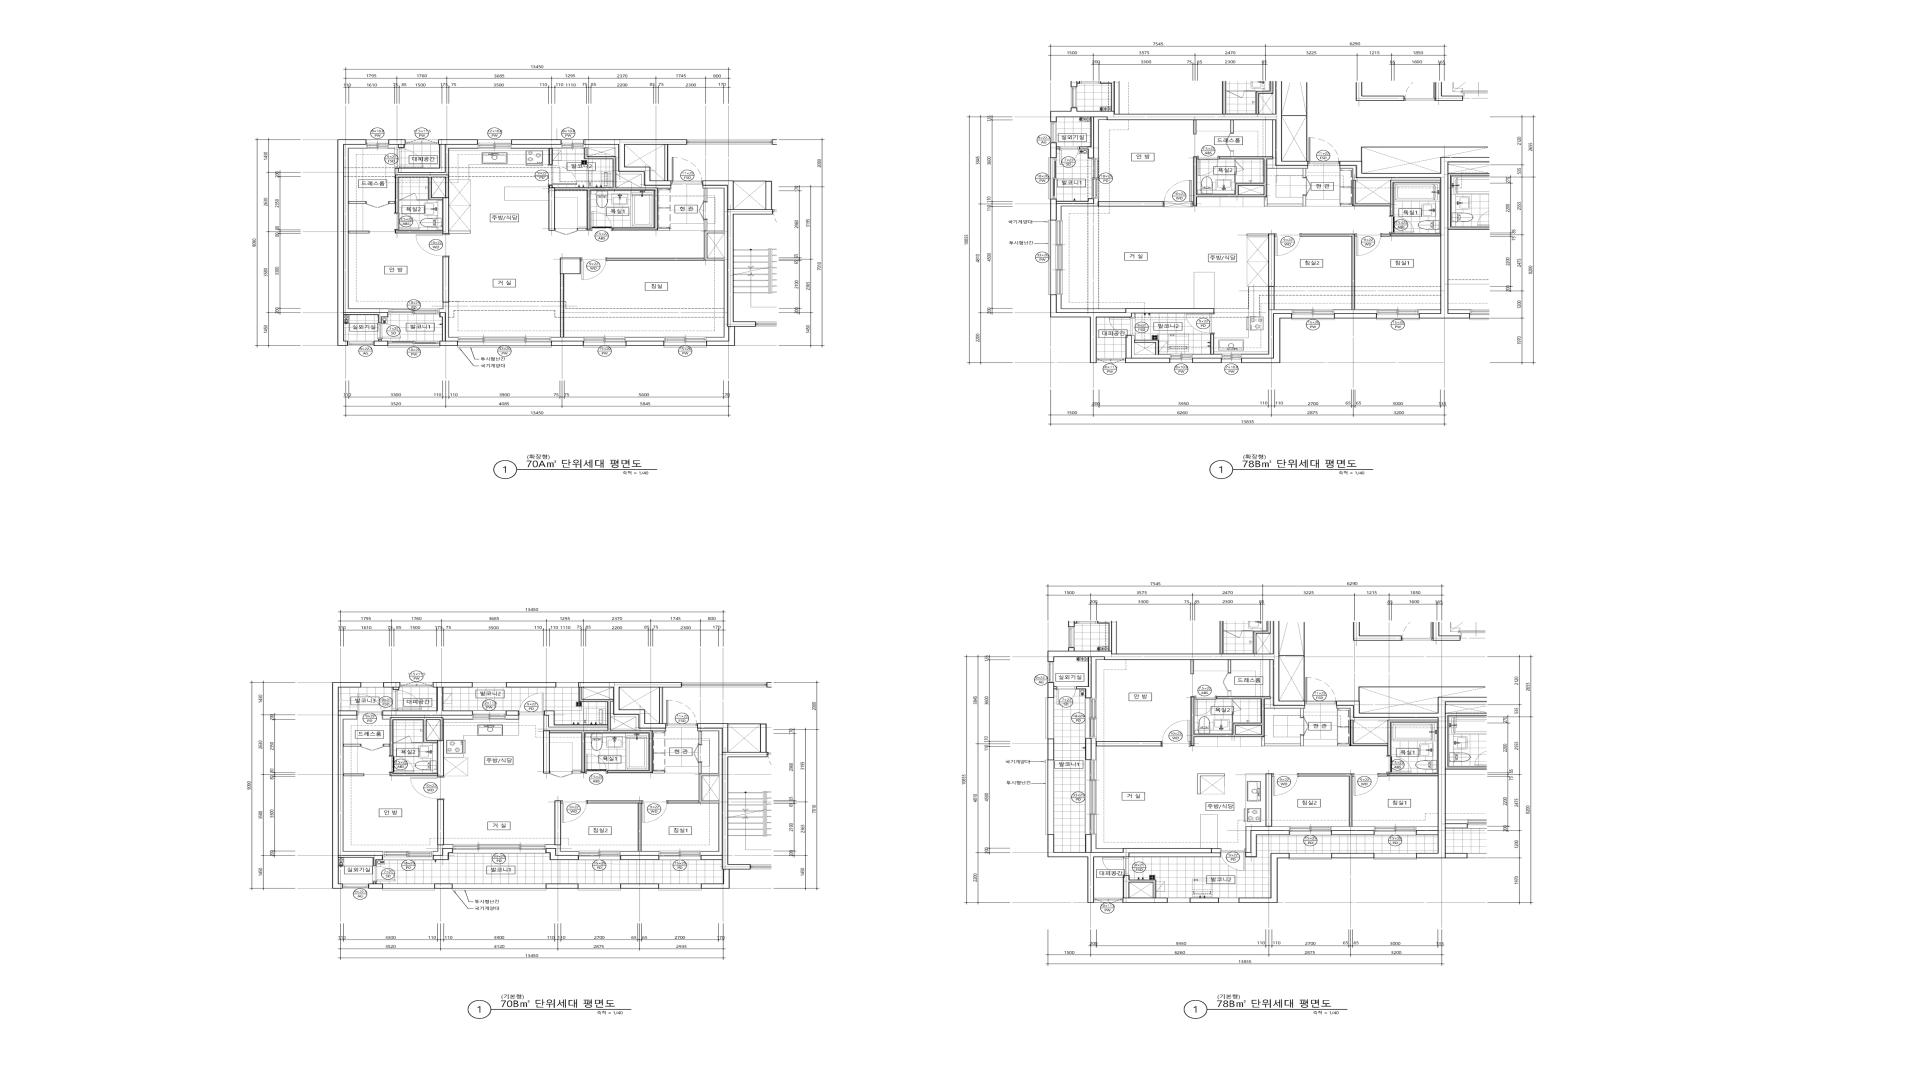door: (666, 700, 698, 728), (1308, 137, 1340, 164), (671, 157, 703, 183), (1163, 181, 1193, 207), (415, 233, 448, 257), (410, 777, 444, 799), (1162, 720, 1191, 746), (1305, 678, 1336, 703), (393, 690, 422, 711), (549, 165, 578, 186), (560, 800, 587, 823), (518, 692, 545, 715), (1275, 233, 1302, 256), (1356, 233, 1382, 256), (1220, 848, 1246, 870), (1352, 774, 1379, 795), (1185, 314, 1215, 334), (394, 148, 423, 167), (357, 694, 382, 716), (642, 800, 667, 823), (580, 258, 607, 280), (1273, 774, 1299, 795), (1102, 857, 1129, 876), (1109, 318, 1135, 335), (591, 211, 613, 231), (1387, 756, 1411, 774), (1195, 696, 1216, 716), (585, 754, 608, 773), (1197, 157, 1220, 175), (390, 756, 414, 773), (1390, 216, 1414, 233), (1059, 146, 1079, 165), (373, 866, 396, 882), (378, 323, 401, 339), (1225, 133, 1234, 152), (360, 744, 384, 750), (365, 202, 389, 208), (555, 228, 578, 235), (550, 771, 572, 778), (393, 736, 411, 744), (699, 202, 707, 220), (1300, 717, 1308, 736), (1224, 673, 1232, 691), (694, 745, 702, 762), (400, 193, 417, 200), (1303, 178, 1311, 195), (1232, 699, 1241, 712), (1234, 160, 1244, 171)
wall: (1047, 621, 1305, 705), (1051, 82, 1308, 166), (607, 186, 728, 342), (1336, 698, 1445, 858), (1340, 157, 1448, 319), (543, 682, 682, 774), (1047, 835, 1220, 903), (703, 181, 773, 345), (698, 724, 767, 889), (1051, 294, 1215, 363), (332, 682, 382, 889), (338, 140, 388, 345), (555, 145, 671, 231), (339, 716, 382, 856), (584, 140, 687, 186), (1302, 233, 1356, 310), (1191, 696, 1271, 746), (1193, 157, 1274, 206), (390, 717, 444, 777), (382, 682, 472, 716), (698, 729, 721, 856), (394, 140, 477, 175), (1299, 774, 1353, 827), (587, 800, 642, 852), (1238, 853, 1290, 903), (1241, 314, 1292, 363), (1241, 310, 1292, 357), (1267, 120, 1308, 178), (1265, 659, 1305, 717), (389, 175, 448, 214), (551, 274, 583, 342), (611, 702, 666, 731), (1340, 166, 1441, 181), (1336, 705, 1437, 720), (1056, 294, 1126, 313), (1125, 335, 1170, 363), (1124, 876, 1167, 903), (1282, 115, 1307, 161), (1246, 831, 1290, 857), (1246, 827, 1290, 852), (543, 715, 608, 731), (512, 145, 562, 165), (1051, 199, 1095, 220), (1131, 335, 1170, 359), (1056, 199, 1098, 220), (439, 302, 458, 342), (439, 313, 458, 345), (1197, 774, 1225, 794), (1092, 835, 1122, 852), (1269, 233, 1275, 310), (1092, 657, 1104, 699), (1095, 117, 1106, 158), (707, 233, 725, 258), (1265, 195, 1307, 206), (1262, 736, 1304, 746), (702, 777, 719, 800), (546, 848, 579, 860), (546, 844, 579, 856), (1129, 882, 1153, 898), (1134, 340, 1159, 355), (1129, 853, 1220, 857), (382, 716, 472, 720), (1097, 202, 1163, 207), (1096, 741, 1162, 746), (1266, 774, 1273, 827), (560, 257, 580, 274), (438, 799, 444, 845), (554, 800, 560, 845), (549, 186, 555, 231), (426, 720, 440, 740), (587, 148, 616, 157), (506, 682, 556, 687), (512, 140, 562, 145), (443, 257, 448, 302), (433, 848, 452, 860), (433, 844, 452, 856), (1335, 314, 1377, 319), (1332, 853, 1374, 858), (620, 851, 659, 856), (621, 884, 658, 889), (394, 229, 443, 233), (443, 198, 448, 233), (1335, 310, 1377, 314), (1332, 827, 1374, 831), (546, 884, 578, 889), (1332, 831, 1374, 835), (620, 856, 659, 860), (1192, 357, 1221, 363), (1189, 898, 1218, 903), (626, 338, 663, 342), (626, 342, 663, 345), (1050, 142, 1059, 158), (1047, 738, 1054, 760), (1085, 738, 1092, 760), (384, 682, 401, 690), (1047, 683, 1056, 698), (551, 342, 583, 345), (389, 140, 405, 148), (1192, 353, 1221, 357), (659, 687, 662, 724), (434, 884, 452, 889), (373, 339, 388, 345), (368, 882, 382, 889), (665, 145, 667, 181), (1419, 310, 1441, 314), (667, 800, 699, 803), (1416, 827, 1437, 831), (1092, 738, 1096, 760), (505, 711, 518, 716), (448, 231, 471, 233), (348, 231, 369, 233), (1247, 233, 1269, 236), (1230, 120, 1234, 133), (1211, 334, 1213, 353), (1228, 659, 1232, 673), (505, 716, 518, 720), (348, 202, 365, 204), (733, 181, 766, 182), (1193, 120, 1196, 135), (1191, 659, 1193, 674), (389, 145, 398, 149), (1337, 744, 1350, 746), (653, 770, 665, 773), (1230, 152, 1234, 157), (1228, 691, 1232, 696), (1340, 204, 1353, 206), (384, 744, 390, 746), (1131, 314, 1135, 318), (1234, 171, 1236, 183), (417, 199, 427, 200), (1232, 712, 1233, 723), (411, 742, 422, 744), (572, 771, 582, 773), (728, 724, 761, 724)
window: (1048, 220, 1063, 294), (458, 338, 551, 348), (452, 844, 546, 853), (1085, 760, 1096, 835), (452, 884, 546, 890), (1046, 760, 1054, 835), (583, 338, 626, 348), (663, 338, 707, 348), (1377, 310, 1419, 320), (1292, 310, 1335, 320), (1085, 698, 1096, 738), (382, 852, 433, 860), (659, 851, 700, 860), (579, 851, 620, 860), (388, 342, 440, 348), (382, 884, 435, 890), (1374, 827, 1416, 835), (1290, 827, 1332, 835), (1048, 158, 1056, 199), (1046, 698, 1054, 738), (472, 711, 506, 720), (477, 140, 512, 149), (578, 884, 621, 890), (658, 884, 702, 890), (1374, 853, 1416, 860), (1290, 853, 1332, 860), (388, 309, 439, 314), (1092, 158, 1098, 199), (405, 138, 438, 145), (562, 140, 584, 149), (1170, 353, 1192, 363), (367, 140, 389, 149), (1095, 898, 1124, 905), (1221, 353, 1241, 363), (472, 682, 506, 687), (400, 682, 433, 687), (1097, 359, 1125, 364), (1047, 662, 1054, 683), (343, 884, 368, 889), (1167, 898, 1189, 903), (556, 682, 579, 687), (361, 682, 384, 687), (1051, 123, 1056, 142), (1218, 898, 1238, 903), (348, 342, 373, 345)
